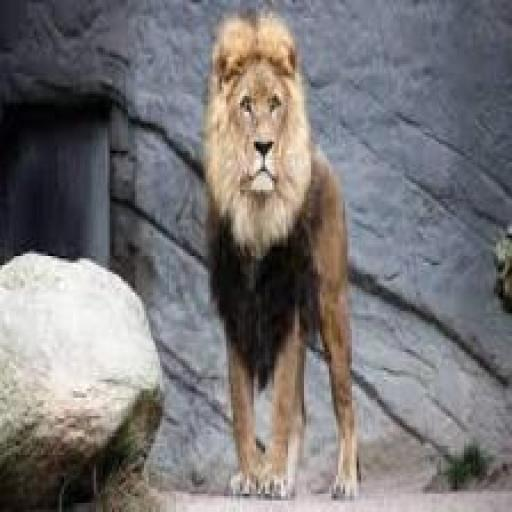lion: (189, 4, 381, 512)
